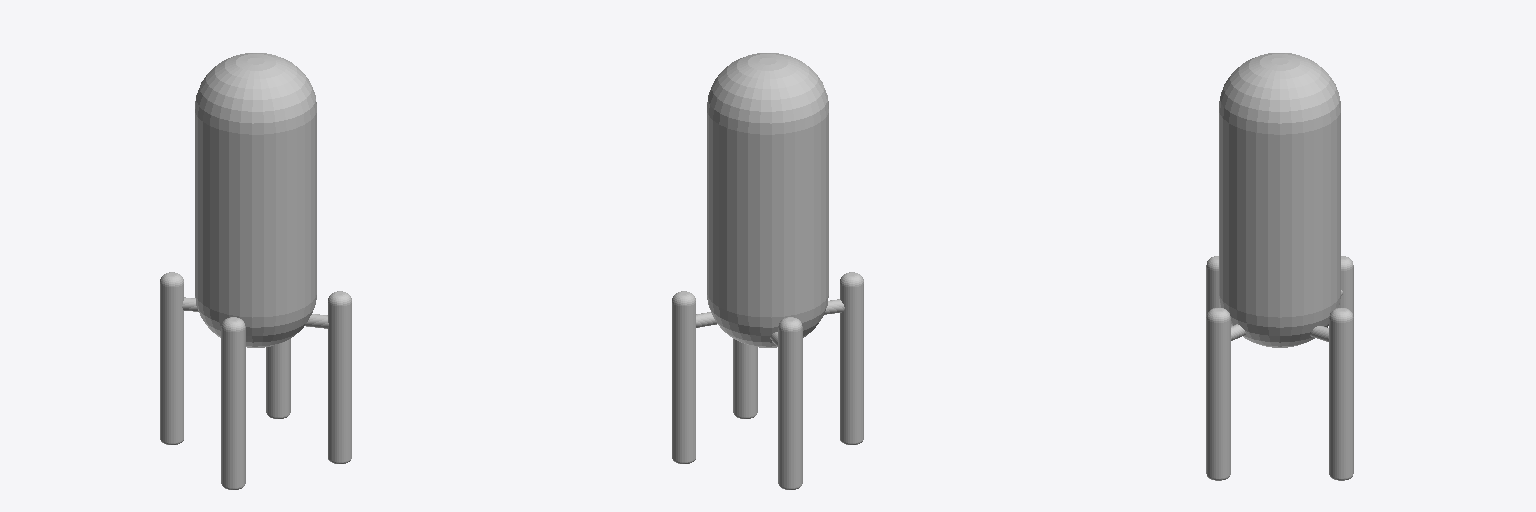
3 views of the same model, side by side, from view 1: azimuth 30°, elevation 25°; view 2: azimuth 150°, elevation 25°; view 3: azimuth 270°, elevation 25° (orthographic).
Visible parts, largest first — view 1: Цилиндр.006_Цилиндр.008; view 2: Цилиндр.006_Цилиндр.008; view 3: Цилиндр.006_Цилиндр.008.
Part boxes in pixels (x1,y1,x2,y2): Цилиндр.006_Цилиндр.008: (160,53,351,489); Цилиндр.006_Цилиндр.008: (672,53,863,489); Цилиндр.006_Цилиндр.008: (1206,53,1353,480).
Bounding box in the file's own units: 2.4 × 7 × 2.4.